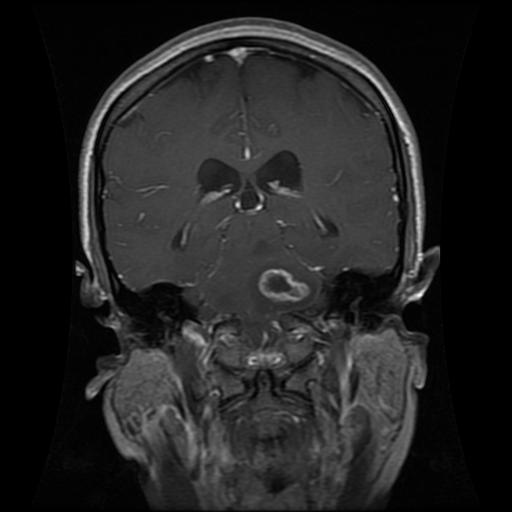Gliomia_tumour: (248, 263, 317, 309)
